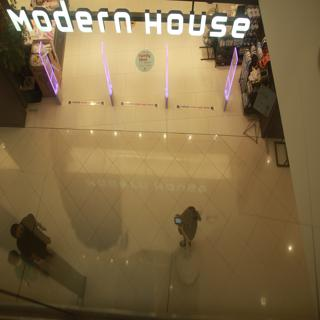person: (8, 216, 66, 264), (173, 199, 205, 258), (3, 250, 44, 285)
